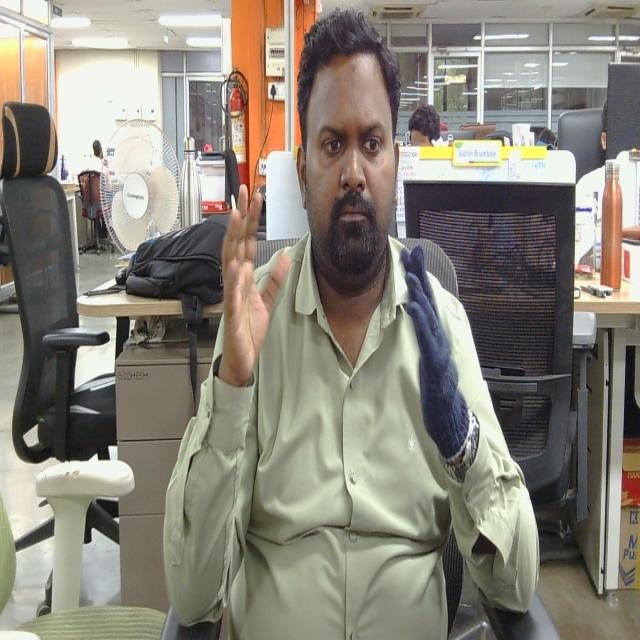Gloves-Detection: (400, 238, 471, 456)
